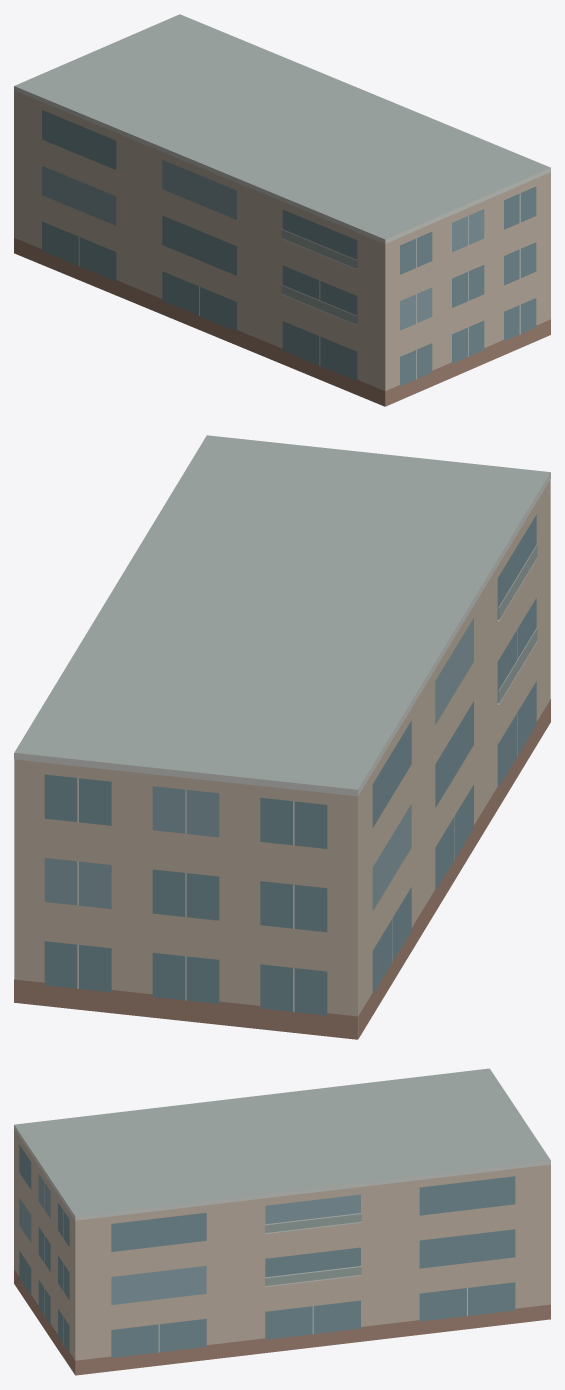
The model's file is survey-upis-33034642.glb.
3 renders of one model, top to bottom at view 1: azimuth 30°, elevation 25°; view 2: azimuth 150°, elevation 25°; view 3: azimuth 270°, elevation 25°, orthographic. The views are drawn at different scales.
Visible parts, largest first — view 1: survey-upis-33034642.tmp; view 2: survey-upis-33034642.tmp; view 3: survey-upis-33034642.tmp.
Boxes of the visible parts, x1,y1,x2,y2 form: survey-upis-33034642.tmp: [14, 14, 550, 406]; survey-upis-33034642.tmp: [14, 435, 550, 1039]; survey-upis-33034642.tmp: [14, 1068, 550, 1375].
Size of the model in its own units: 18.27 by 9.15 by 28.
